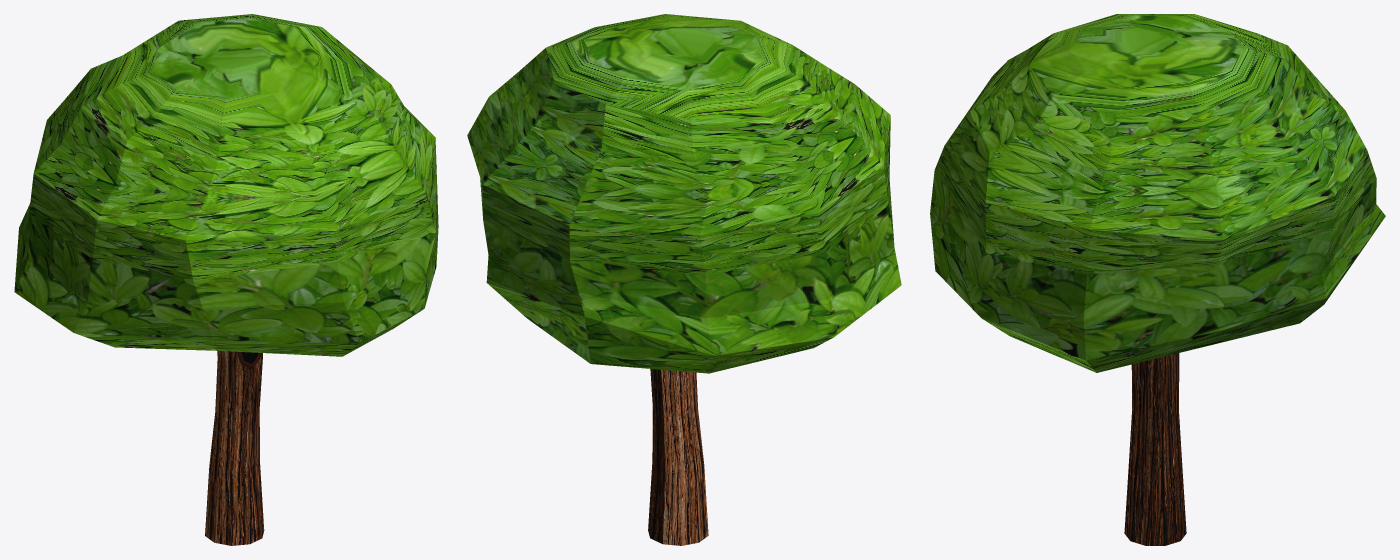
Rendered from ekorntre.glb.
3 views of the same model, side by side, from view 1: azimuth 30°, elevation 25°; view 2: azimuth 150°, elevation 25°; view 3: azimuth 270°, elevation 25° (orthographic). The views are drawn at different scales.
Parts seen in each view (by area): view 1: Cylinder; view 2: Cylinder; view 3: Cylinder.
Boxes of the visible parts, box(x1,y1,x2,y2) form: Cylinder: box(14, 14, 438, 545); Cylinder: box(467, 14, 901, 545); Cylinder: box(930, 14, 1385, 545).
Bounding box in the file's own units: 6.26 × 7.9 × 6.62.
Materials: 4 (2 with a texture image).
